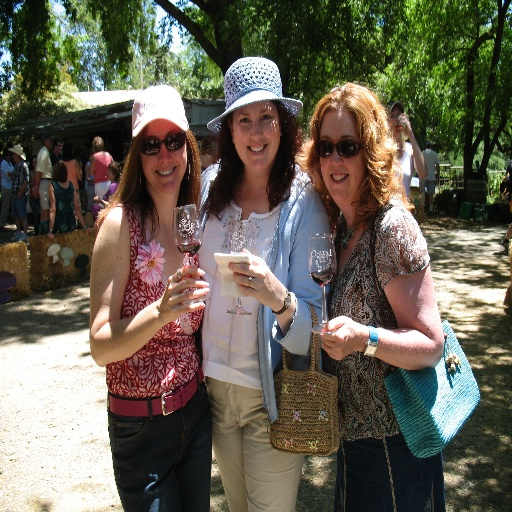hand: (228, 246, 280, 304), (328, 317, 385, 368), (160, 264, 208, 320), (397, 113, 411, 133), (31, 183, 40, 195), (47, 232, 56, 240), (85, 225, 92, 234), (94, 194, 101, 202), (7, 170, 12, 180), (15, 190, 22, 197), (437, 177, 440, 186)
